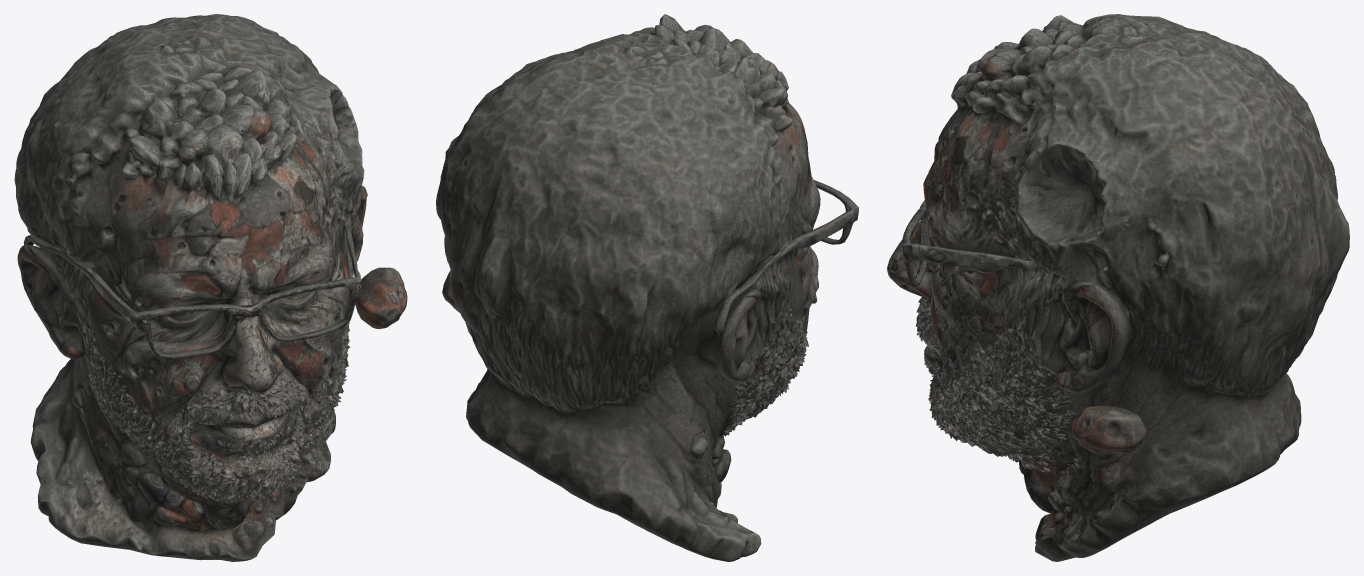
File: Franchi.glb
The picture shows the model from 3 angles, left to right: view 1: azimuth 30°, elevation 25°; view 2: azimuth 150°, elevation 25°; view 3: azimuth 270°, elevation 25°; orthographic projection. The views are drawn at different scales.
Size of the model in its own units: 1.36 by 1.9 by 1.53.
1 material, 1 textured.
